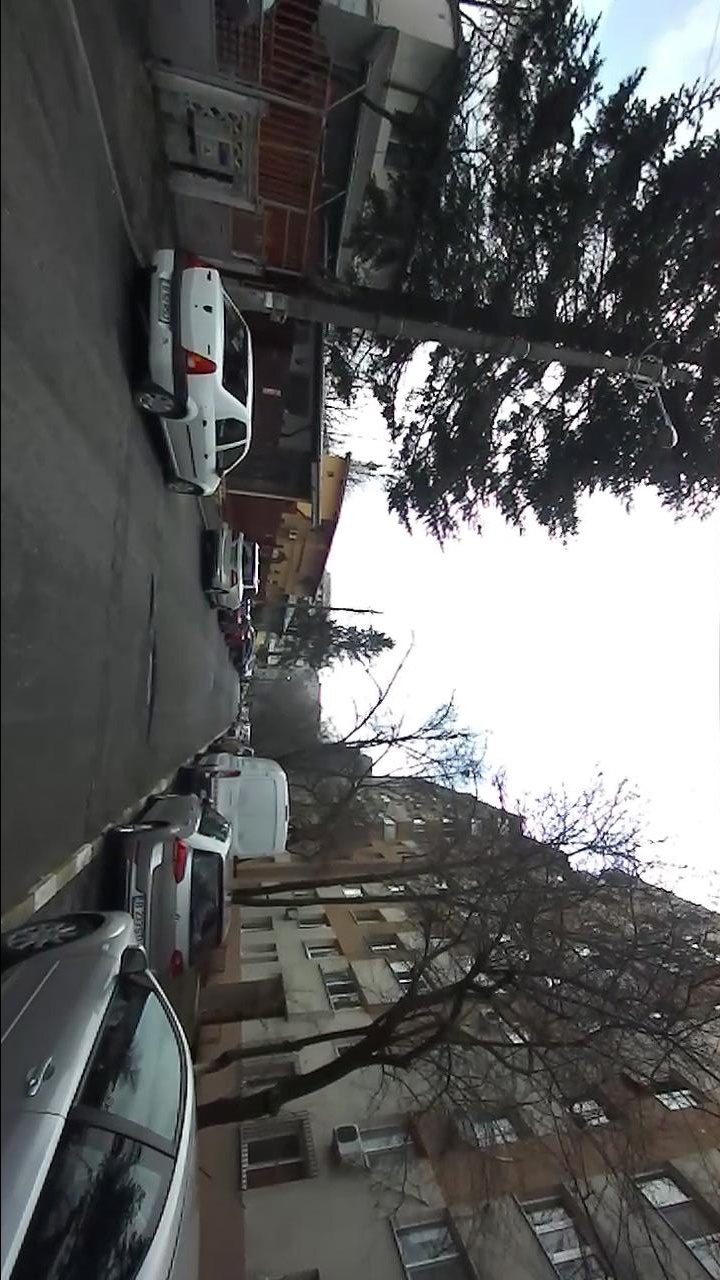pothole: (139, 638, 158, 737), (147, 574, 157, 622)
